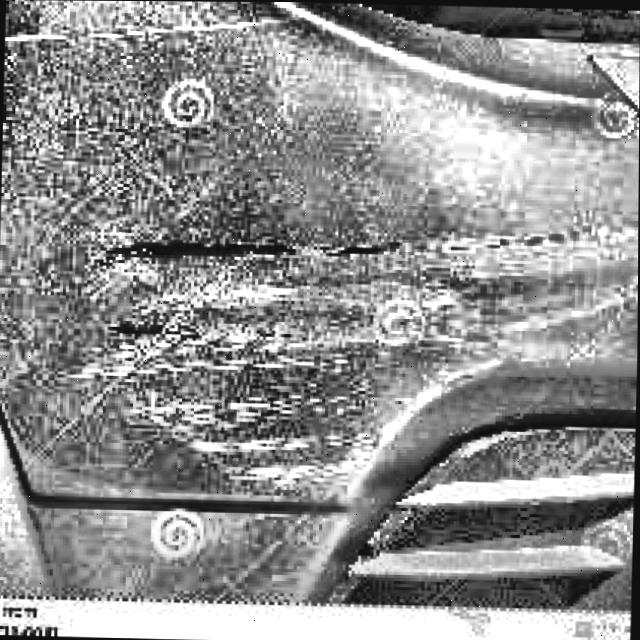bumper_scratch: (74, 368, 376, 491), (77, 218, 405, 281), (95, 311, 323, 360), (453, 215, 638, 260)
